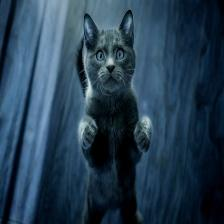kedo: (78, 9, 153, 223)
